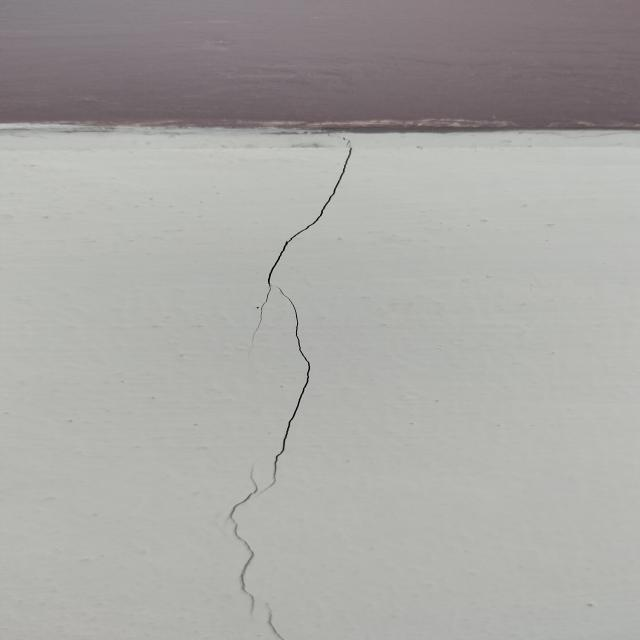Crack: (206, 142, 360, 640)
